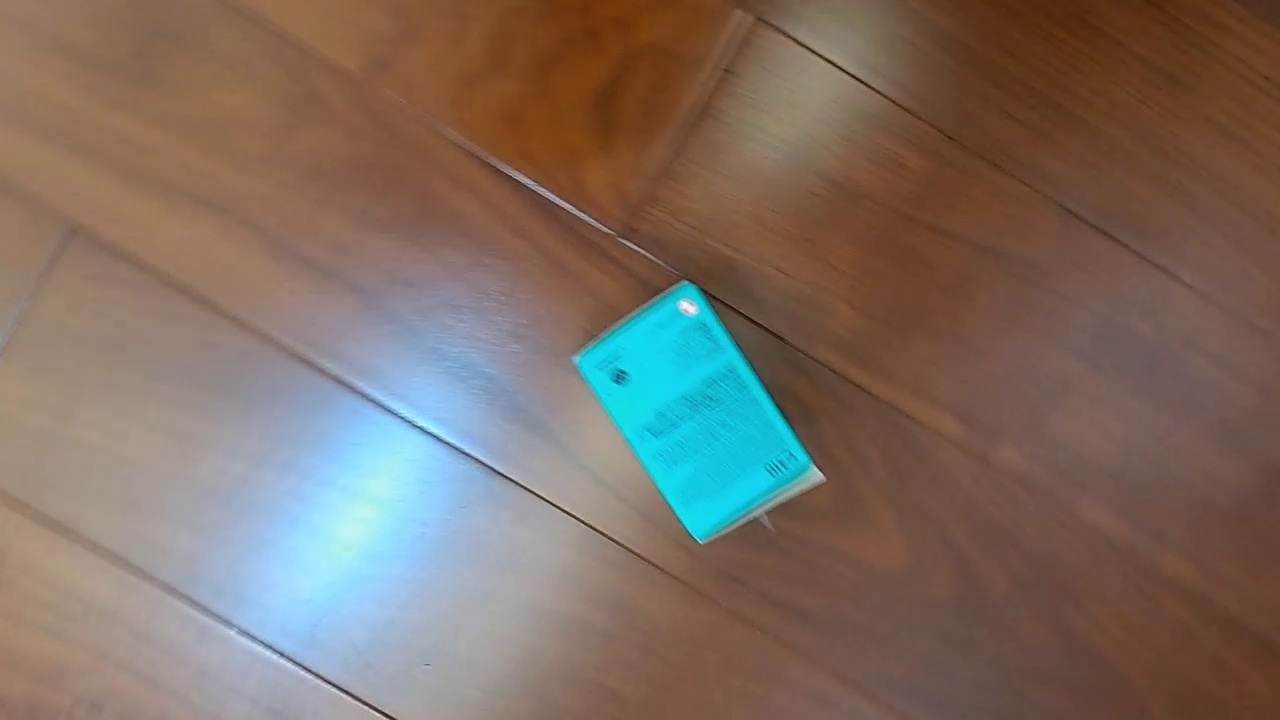webcam: (571, 277, 828, 546)
